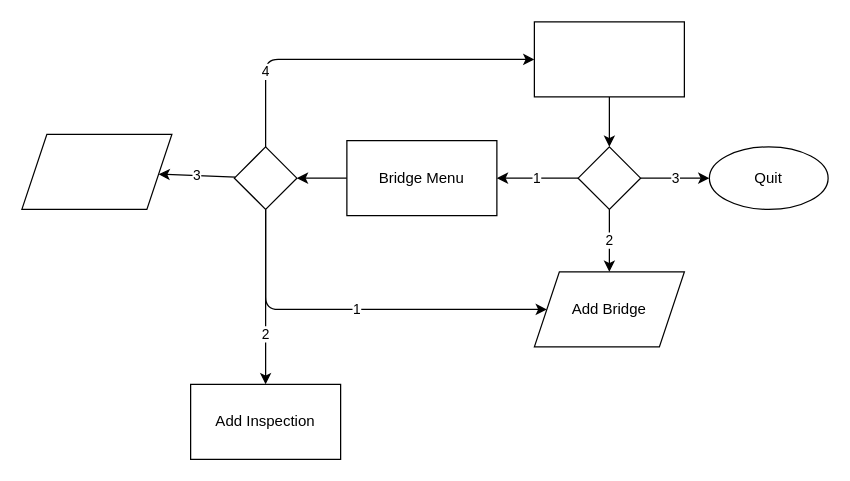
Some shapes in this 850 by 481 pixel diagram are drawn without their labels. The box of each missing label's shape, as (x1, y1, x2, y2) in pixels:
Main menu: (533, 21, 684, 97)
Search Bridges: (21, 133, 172, 209)
